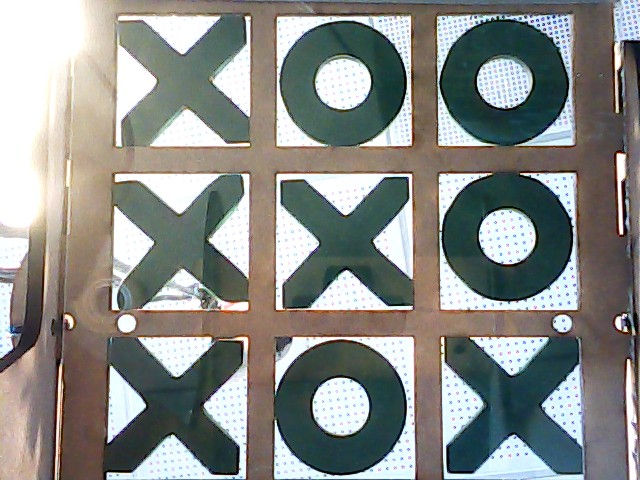O: (277, 337, 414, 479), (440, 174, 578, 309), (439, 16, 576, 146), (278, 15, 414, 145)
X: (439, 334, 582, 477), (105, 337, 245, 480), (277, 172, 413, 310), (112, 174, 246, 310), (117, 13, 250, 147)
